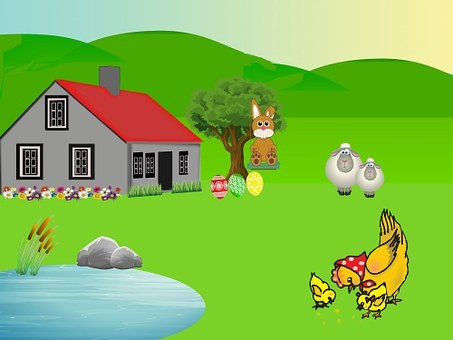bird: (328, 209, 407, 307), (307, 268, 339, 313), (354, 283, 391, 319)
sheep: (322, 136, 361, 203), (355, 157, 390, 199)
